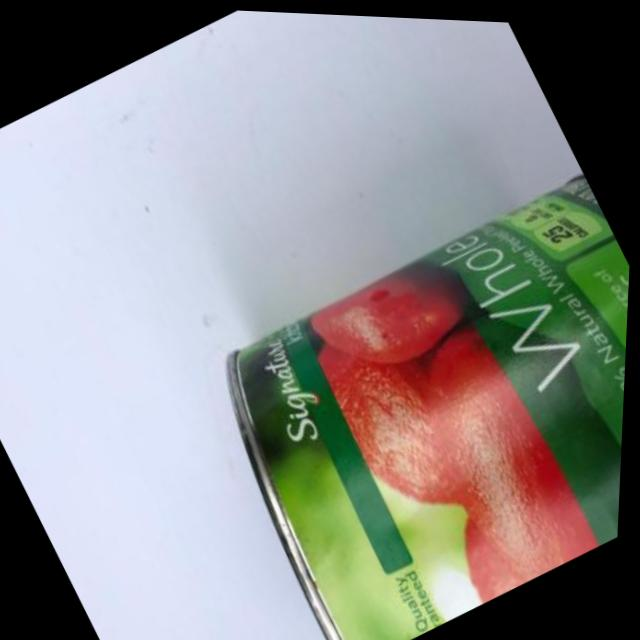metal: (163, 139, 634, 640)
